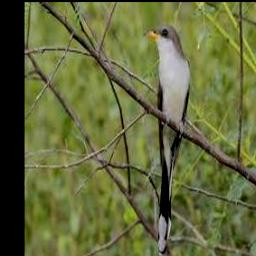Cuckoo: (143, 25, 191, 253)
